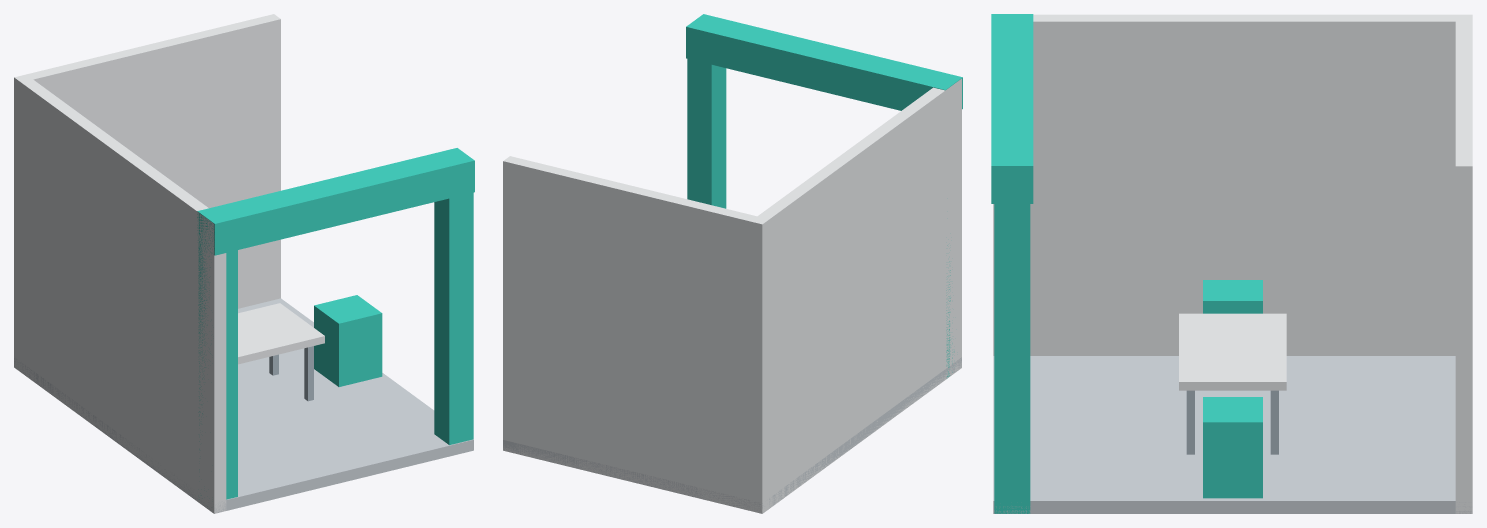
3 views of the same model, side by side, from view 1: azimuth 30°, elevation 25°; view 2: azimuth 150°, elevation 25°; view 3: azimuth 270°, elevation 25° (orthographic). The views are drawn at different scales.
Parts seen in each view (by area): view 1: Exhibition Booth Concept; view 2: Exhibition Booth Concept; view 3: Exhibition Booth Concept.
Part boxes in pixels (x1,y1,x2,y2): Exhibition Booth Concept: (14,14,474,513); Exhibition Booth Concept: (503,14,962,513); Exhibition Booth Concept: (991,14,1472,513).
Bounding box in the file's own units: 3 × 3.2 × 4.02.
